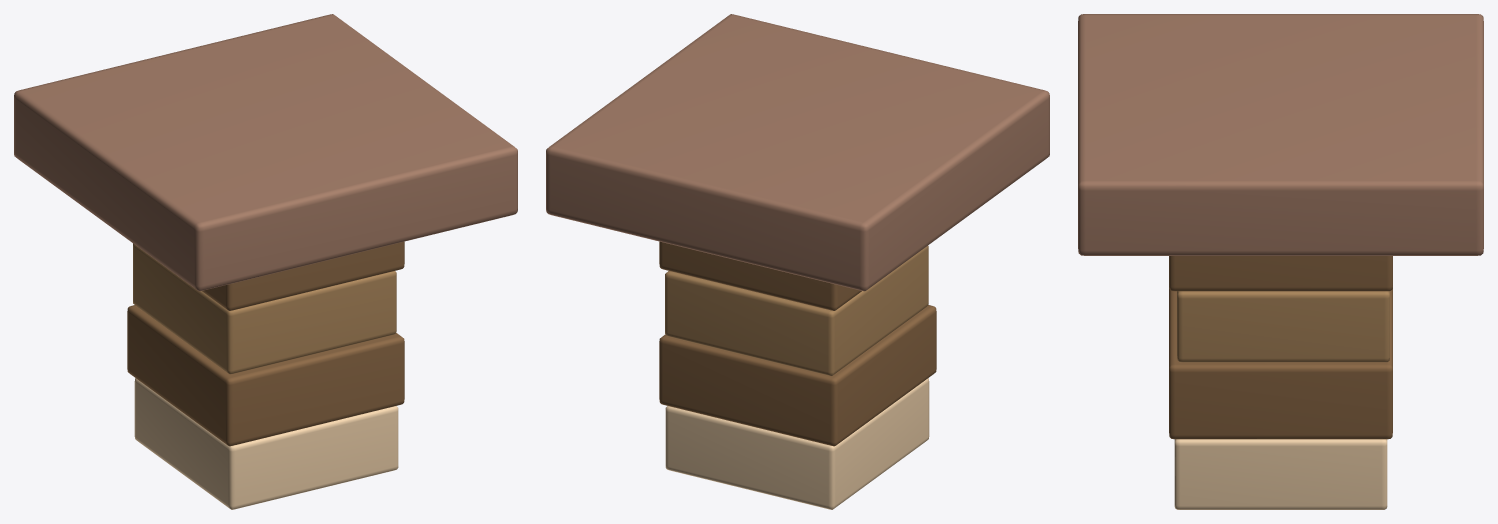
Rendered from ElevatorPillar.fbx.
3 renders of one model, left to right at view 1: azimuth 30°, elevation 25°; view 2: azimuth 150°, elevation 25°; view 3: azimuth 270°, elevation 25°, orthographic. The views are drawn at different scales.
Visible parts, largest first — view 1: Elevator, Cube.003, Cube.004, Cube.001, Cube.002; view 2: Elevator, Cube.003, Cube.001, Cube.004, Cube.002; view 3: Elevator, Cube.003, Cube.001, Cube.004, Cube.002.
Boxes of the visible parts, box(x1,y1,x2,y2) form: Elevator: box(14, 14, 517, 291); Cube.003: box(127, 305, 404, 446); Cube.004: box(134, 378, 398, 509); Cube.001: box(133, 243, 396, 374); Cube.002: box(202, 241, 404, 310); Elevator: box(546, 14, 1049, 291); Cube.003: box(659, 305, 936, 446); Cube.001: box(665, 245, 928, 375); Cube.004: box(665, 378, 929, 509); Cube.002: box(659, 241, 861, 310); Elevator: box(1078, 14, 1483, 255); Cube.003: box(1169, 286, 1392, 439); Cube.001: box(1177, 291, 1389, 362); Cube.004: box(1174, 439, 1387, 509); Cube.002: box(1169, 256, 1392, 291).
Size of the model in its own units: 200 by 200 by 200.
